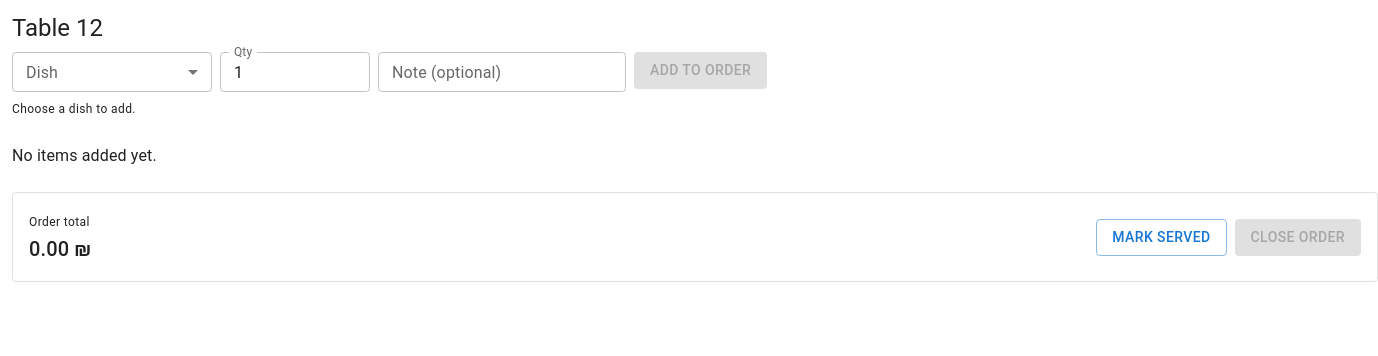
Test: TableOrderDetailPage › submits exactly what was entered and shows the new item in the list
Click the dropdown named "Dish": (112, 72) [12, 52, 212, 92]
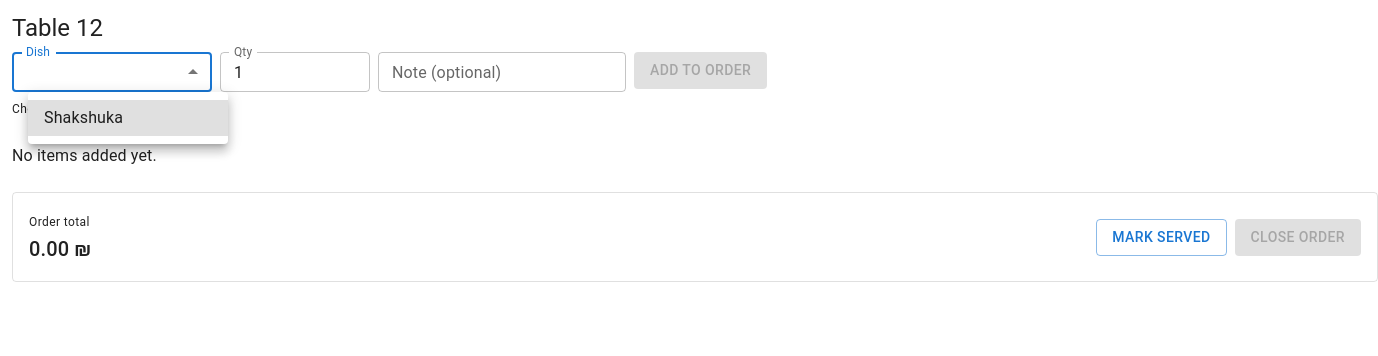
Click the option "Shakshuka": (128, 118) [28, 100, 228, 136]
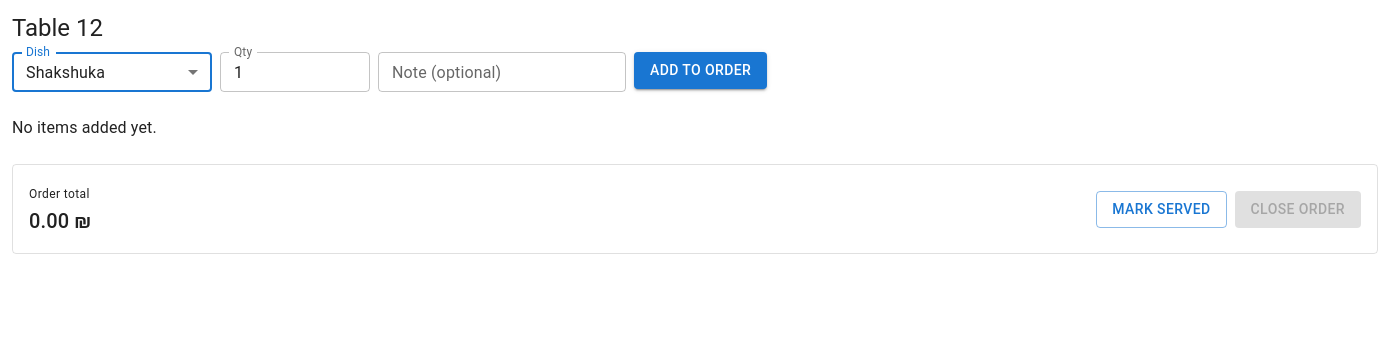
Replace the text in the field labelled "Qty" with "3": (295, 72) [220, 52, 370, 92]
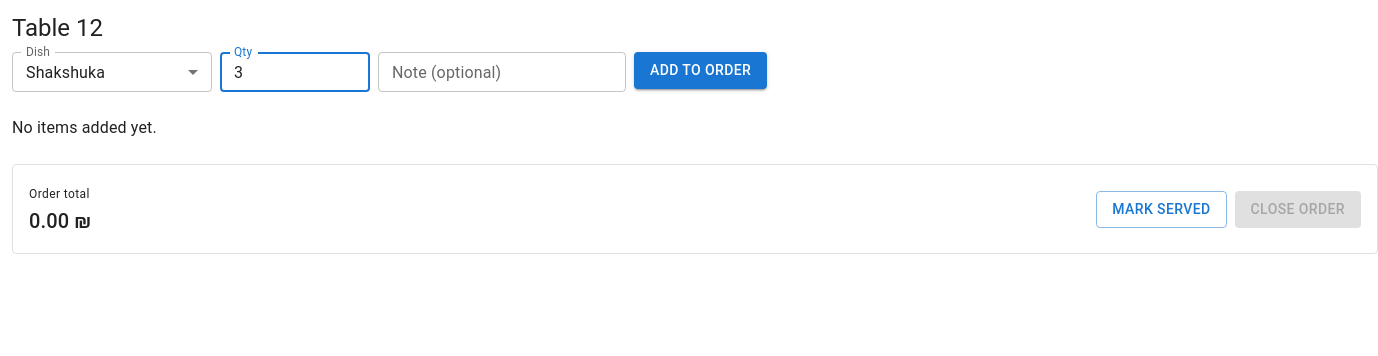
In the field labelled "Note (optional)": (502, 72) [378, 52, 626, 92], type "no onions"
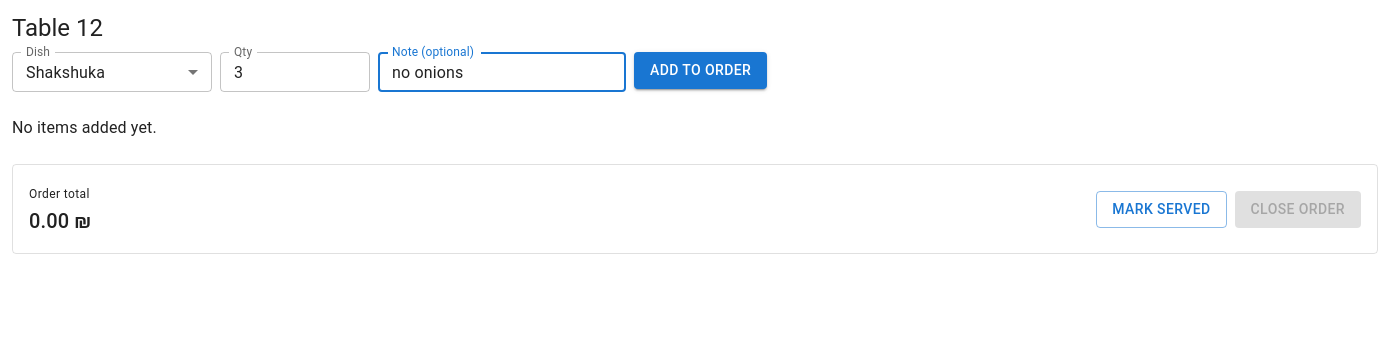
Click the button "Add to order": (701, 71) [634, 52, 767, 89]
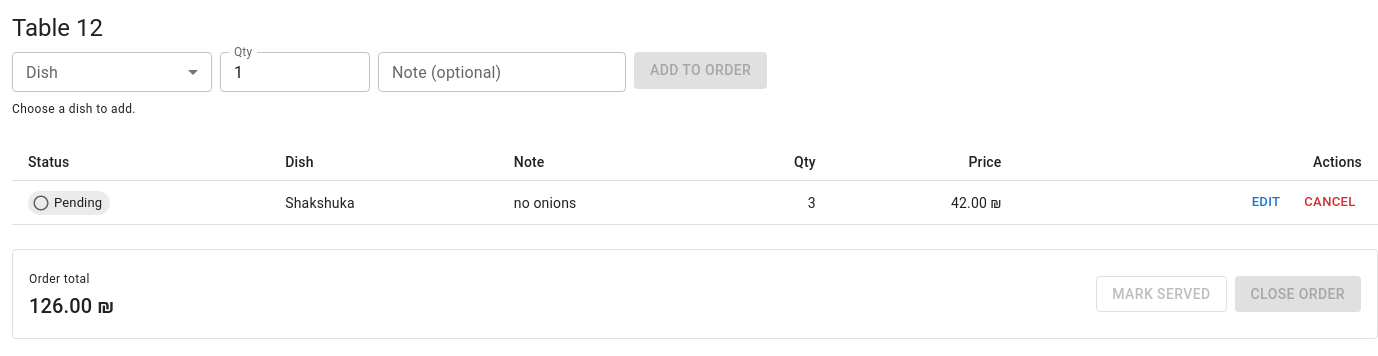
Now the text "no onions" is shown, box [498, 181, 711, 225]
